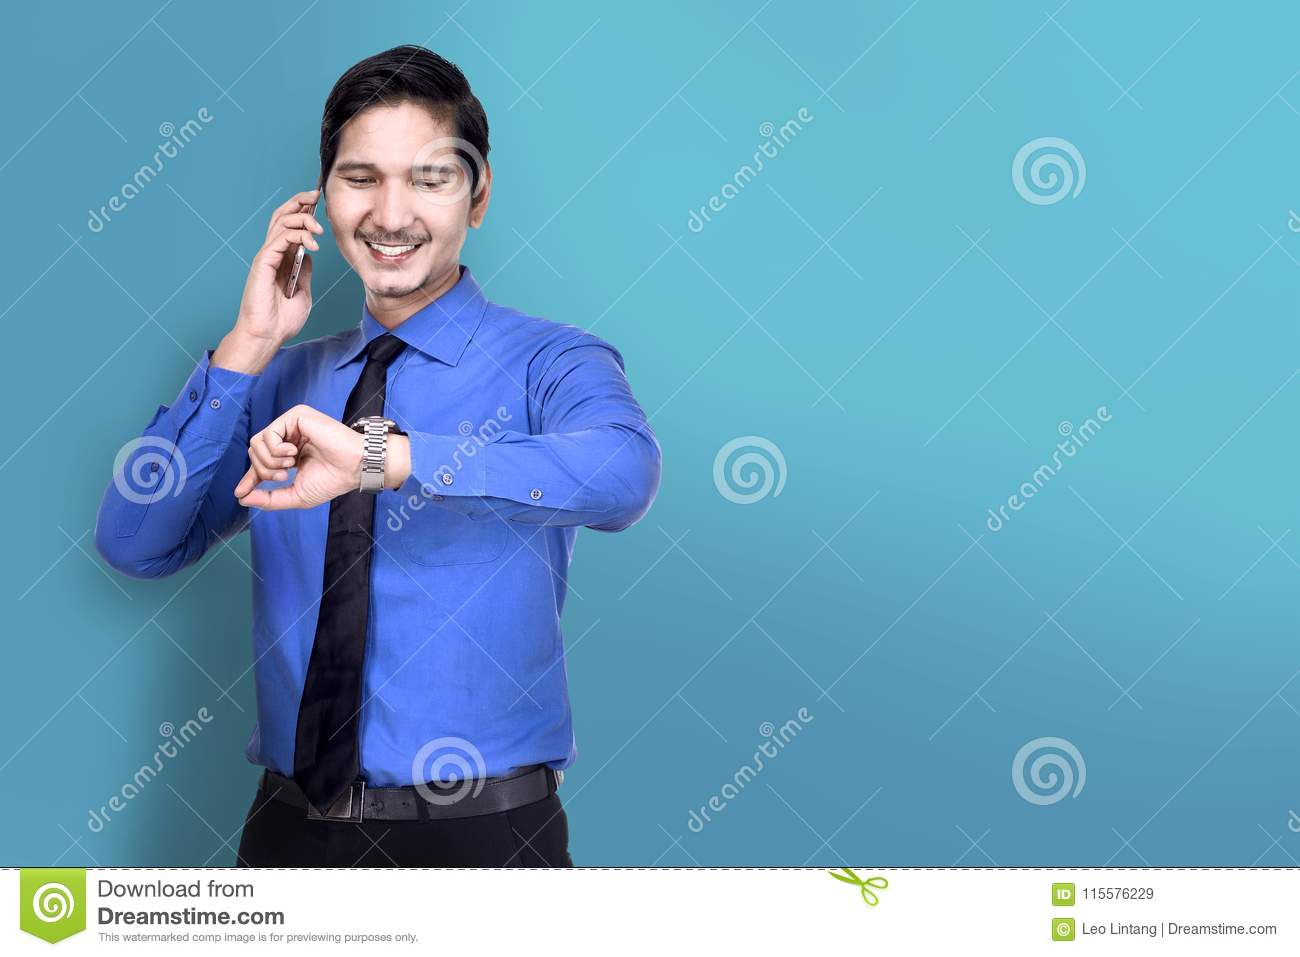phone: (285, 170, 324, 300)
talk: (243, 153, 465, 344)
